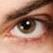eye: (18, 20, 36, 34)
